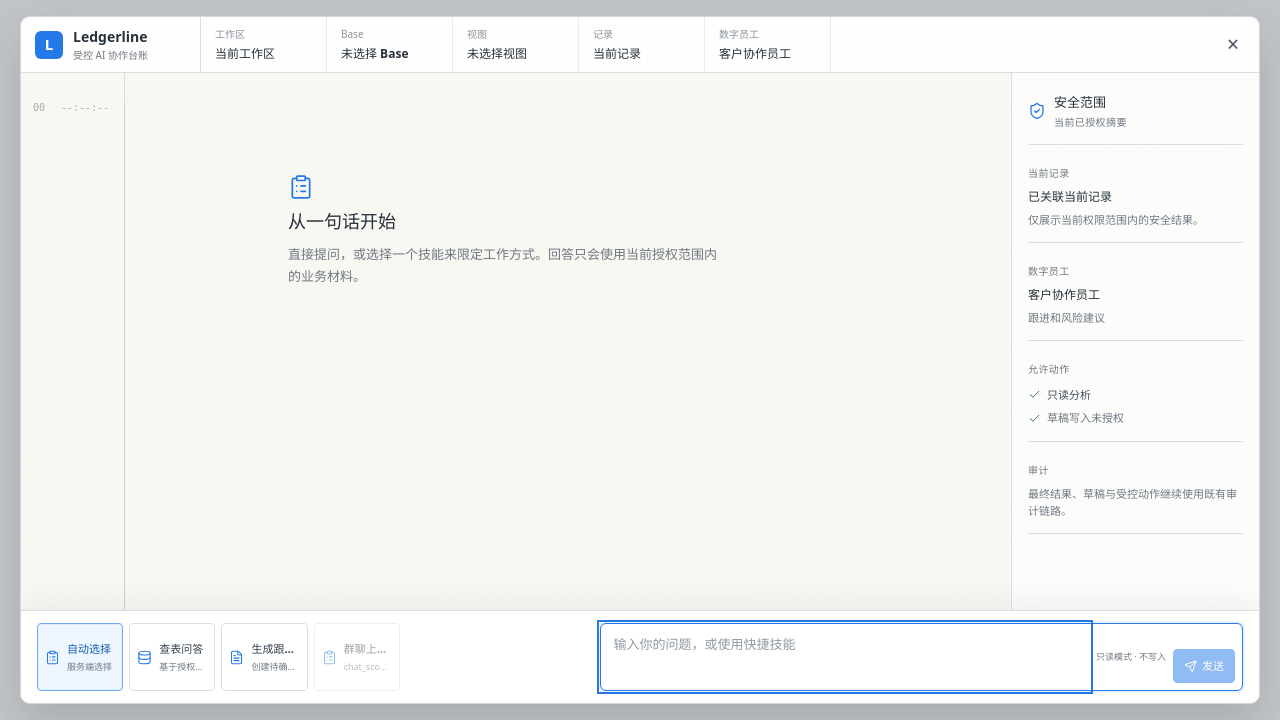
Test: enables draft mode only for an explicit catalog draft_update skill and refuses mismatched result skills
Click the button "生成跟进草稿 创建待确认草稿" at (265, 657), box [222, 623, 308, 691]
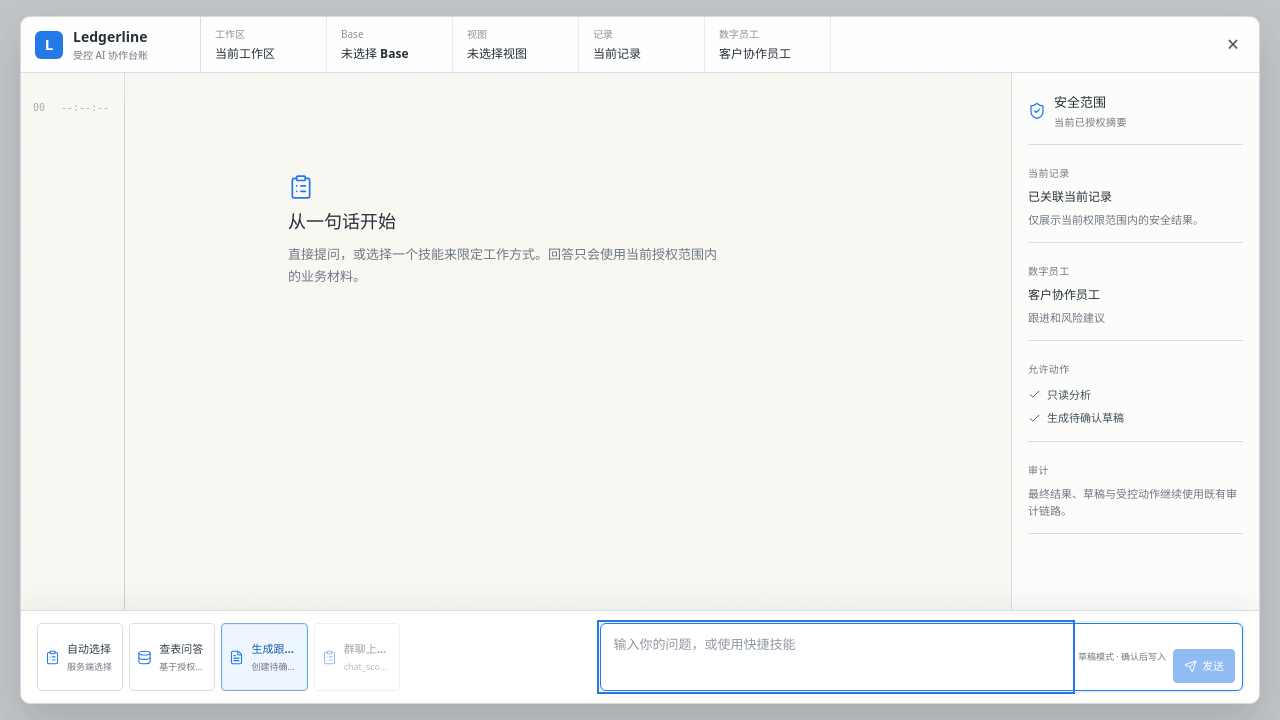
Type "创建草稿" into the text box named "协作问题" at (836, 657), box [601, 624, 1071, 690]
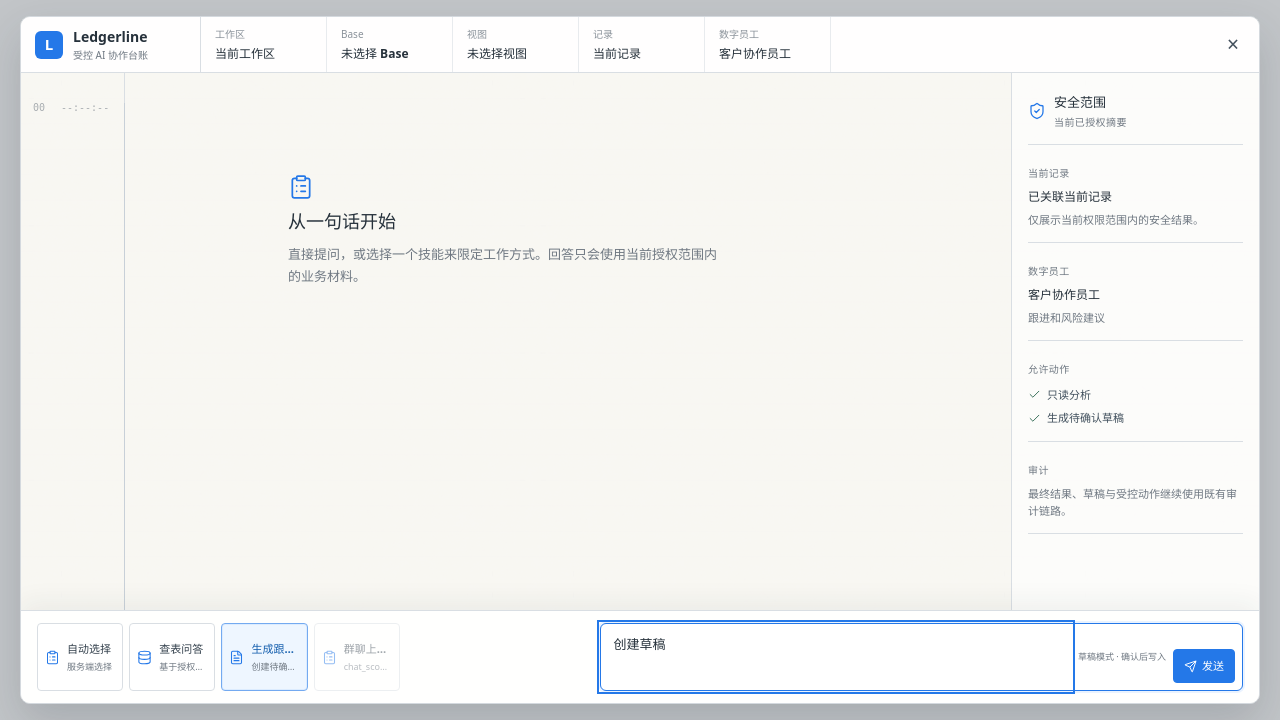
Press Enter in the text box named "协作问题", box [601, 624, 1071, 690]
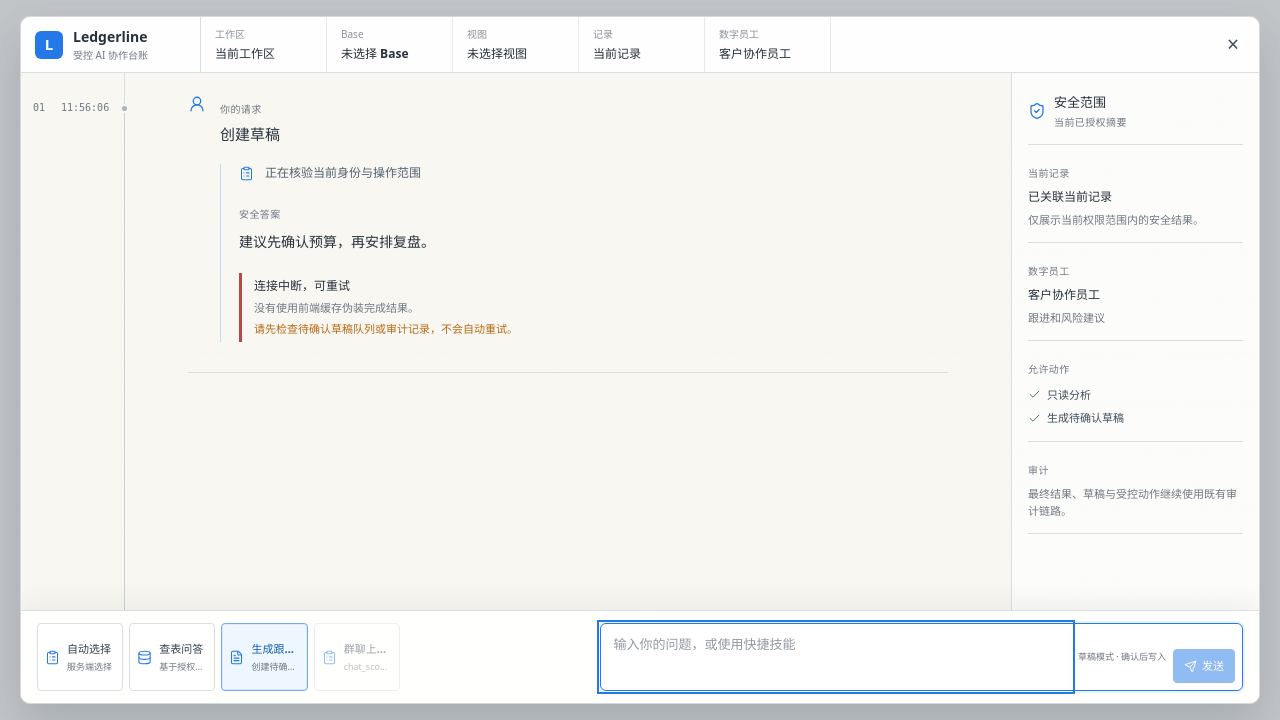
Expected: the text "连接中断，可重试" is shown, [254, 277, 350, 295]
